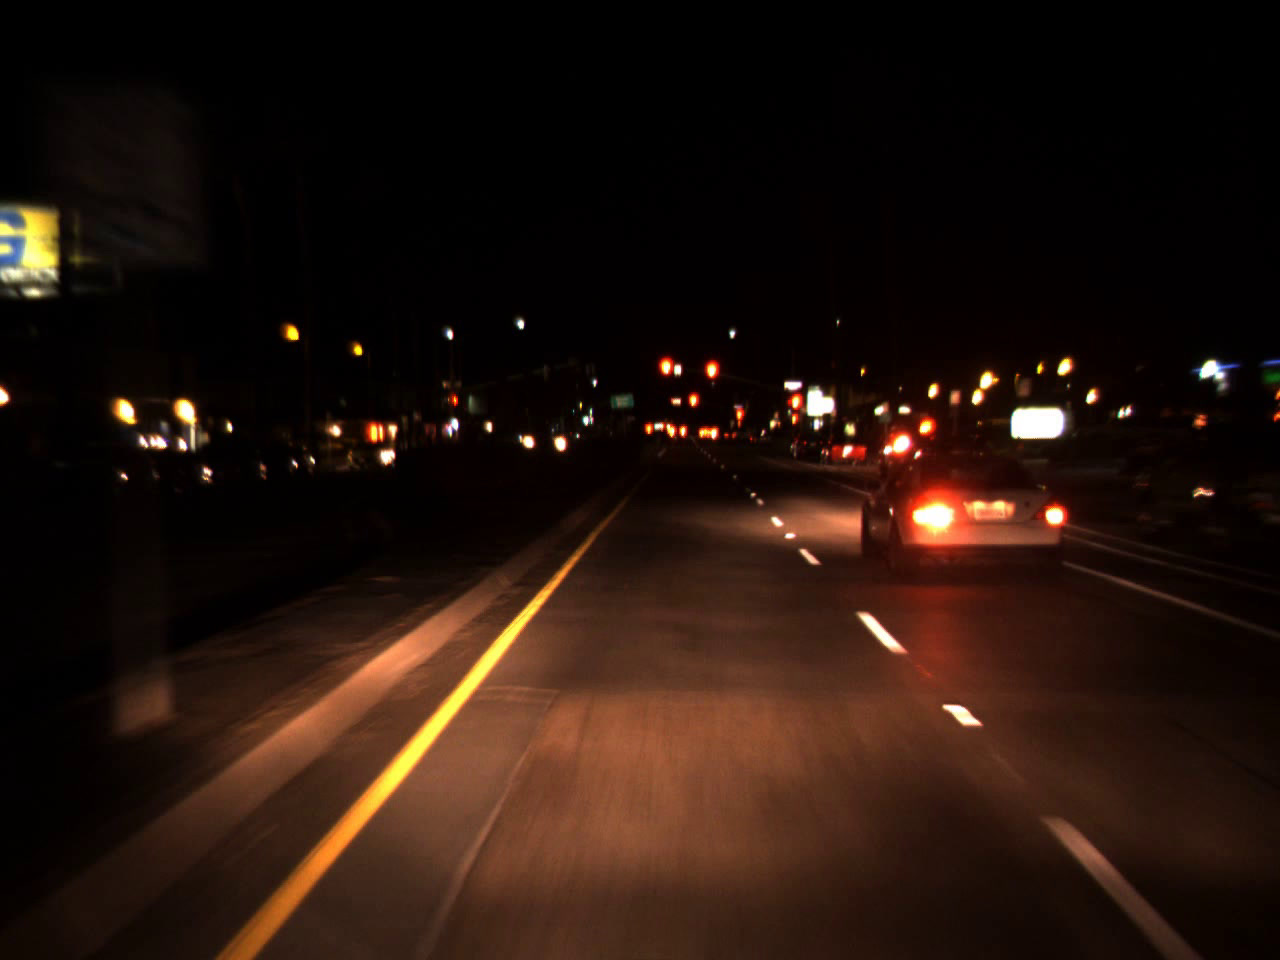stop: (784, 390, 805, 433), (656, 355, 677, 395), (703, 358, 721, 401), (686, 389, 701, 424), (735, 403, 745, 448), (450, 393, 459, 419)
